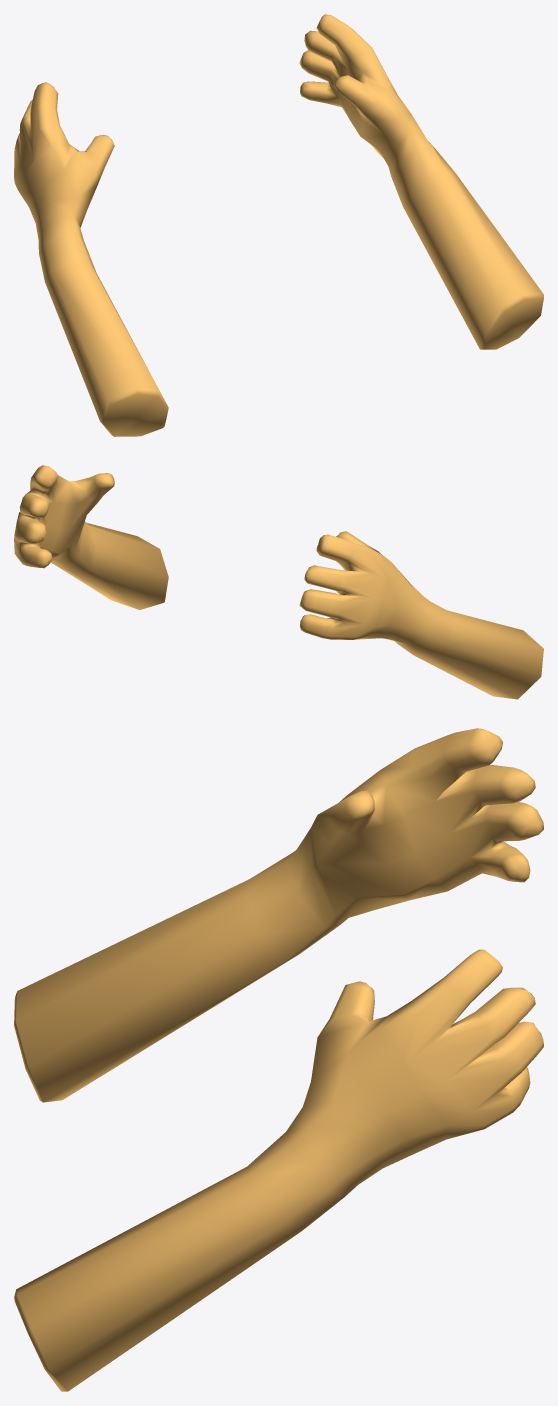
The model's file is SM_031_ManosSeparadasProta.fbx.
The picture shows the model from 3 angles, top to bottom: view 1: azimuth 30°, elevation 25°; view 2: azimuth 150°, elevation 25°; view 3: azimuth 270°, elevation 25°; orthographic projection. The views are drawn at different scales.
Parts seen in each view (by area): view 1: SM_031_ManoProta, SM_031_ManoProta.001; view 2: SM_031_ManoProta.001, SM_031_ManoProta; view 3: SM_031_ManoProta, SM_031_ManoProta.001.
Boxes of the visible parts, left/top/right/bottom form: SM_031_ManoProta: left=299, top=14, right=543, bottom=349; SM_031_ManoProta.001: left=14, top=82, right=168, bottom=436; SM_031_ManoProta.001: left=299, top=531, right=543, bottom=699; SM_031_ManoProta: left=14, top=465, right=168, bottom=609; SM_031_ManoProta: left=14, top=949, right=543, bottom=1391; SM_031_ManoProta.001: left=14, top=728, right=543, bottom=1102.
Bounding box in the file's own units: 61.58 × 33.02 × 39.72.
